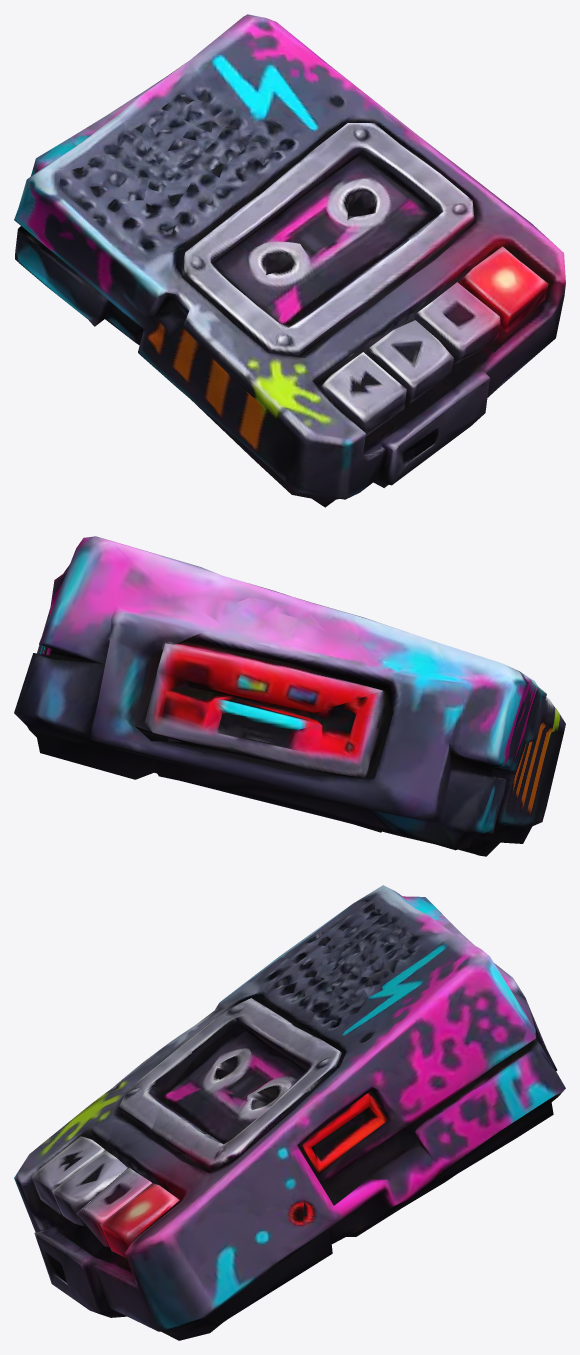
Rendered from GW_INT_audio_log.glb.
3 renders of one model, top to bottom at view 1: azimuth 30°, elevation 25°; view 2: azimuth 150°, elevation 25°; view 3: azimuth 270°, elevation 25°, orthographic. The views are drawn at different scales.
Visible parts, largest first — view 1: tripo_node_600bbd60-cce1-411f-aecc-ed35a127326a; view 2: tripo_node_600bbd60-cce1-411f-aecc-ed35a127326a; view 3: tripo_node_600bbd60-cce1-411f-aecc-ed35a127326a.
Part boxes in pixels (bbox=[...]): tripo_node_600bbd60-cce1-411f-aecc-ed35a127326a: bbox=[14, 14, 565, 507]; tripo_node_600bbd60-cce1-411f-aecc-ed35a127326a: bbox=[14, 536, 565, 856]; tripo_node_600bbd60-cce1-411f-aecc-ed35a127326a: bbox=[14, 885, 565, 1340].
Size of the model in its own units: 1 by 0.7243 by 0.9617.
1 material, 1 textured.
